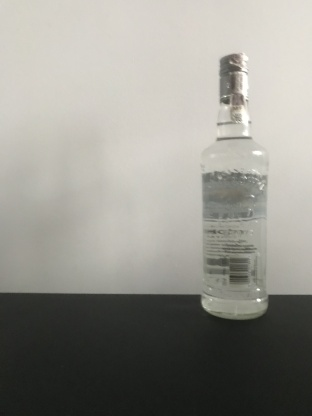nakretka: (217, 51, 250, 105)
